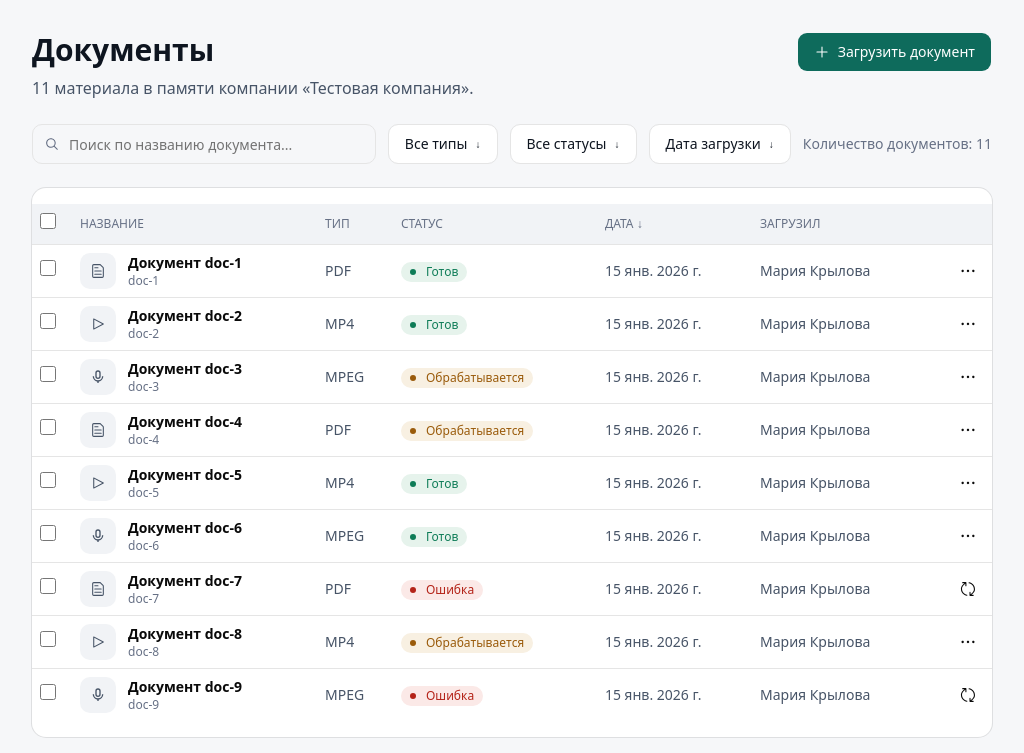
Scenario: DocumentsPage — интеграционные тесты › фильтрует документы по типу
What coordinates should you click on to do the following:
click the button "Все типы ↓"
I would click on:
 (443, 144)
Its box is top-left (388, 124), bottom-right (498, 164).
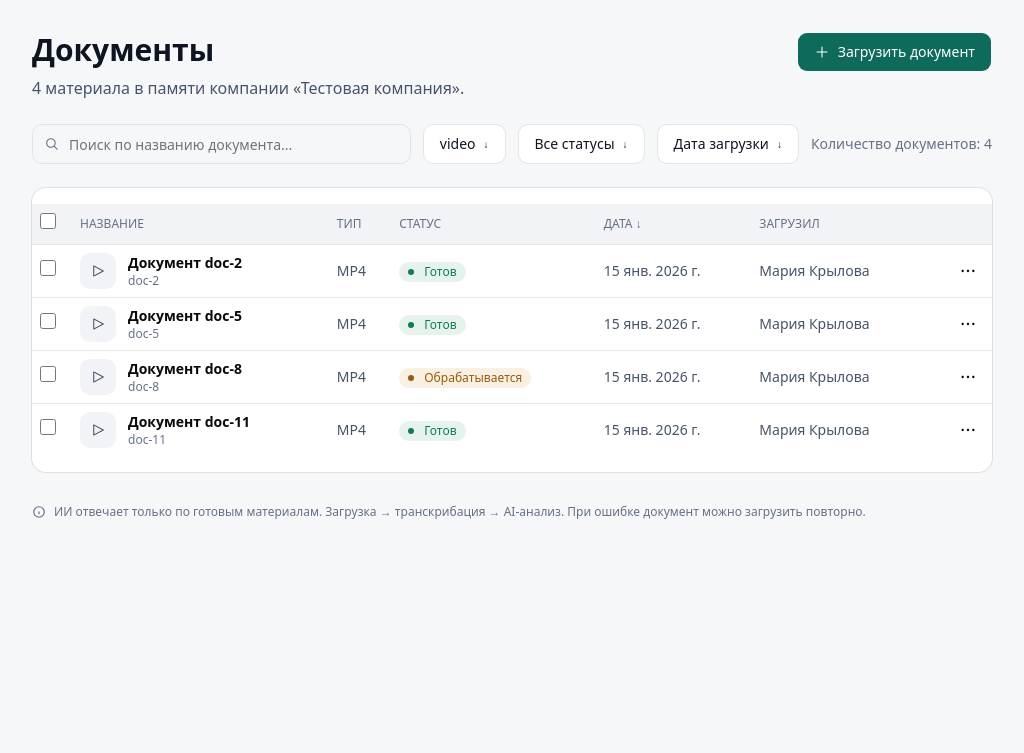
Expected: the link "Документ doc-2" is shown, top-left (128, 252), bottom-right (242, 272)
Expected: the link "Документ doc-3" is gone
Expected: the text "4 материала в памяти компании «Тестовая компания»." is shown, top-left (32, 76), bottom-right (464, 100)
